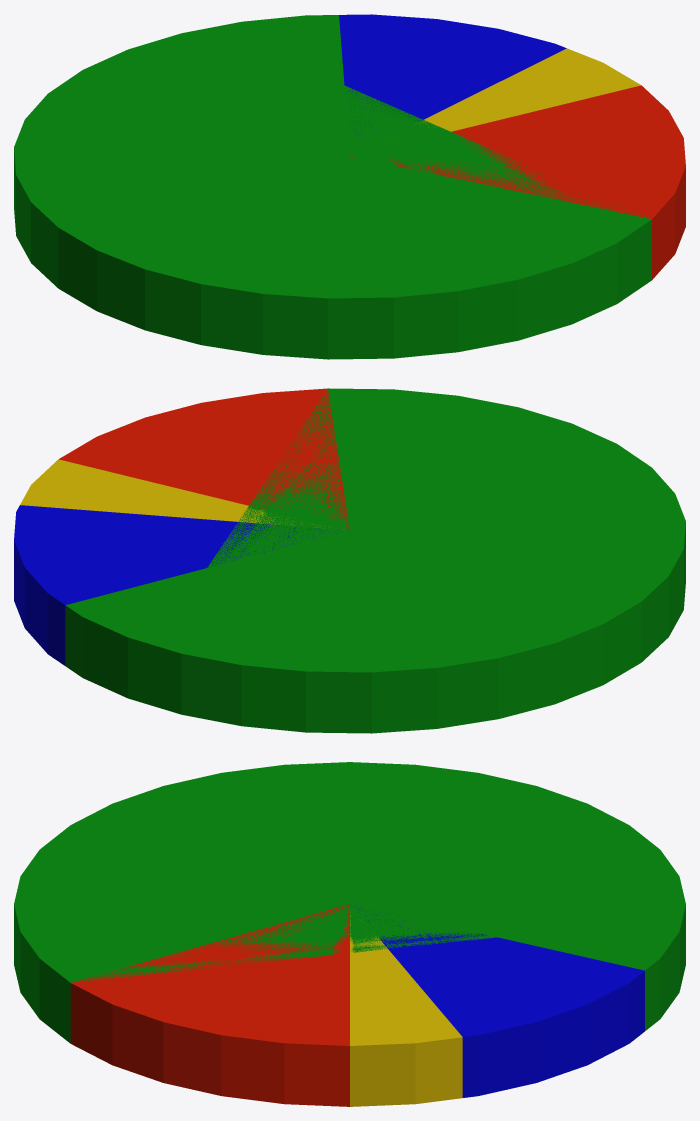
File: Quesico.fbx
3 renders of one model, top to bottom at view 1: azimuth 30°, elevation 25°; view 2: azimuth 150°, elevation 25°; view 3: azimuth 270°, elevation 25°, orthographic.
Visible parts, largest first — view 1: Cylinder; view 2: Cylinder; view 3: Cylinder.
Boxes of the visible parts, x1=… form: Cylinder: x1=14, y1=14, x2=685, y2=359; Cylinder: x1=14, y1=388, x2=685, y2=733; Cylinder: x1=14, y1=762, x2=685, y2=1106.
Size of the model in its own units: 200 by 20 by 200.
